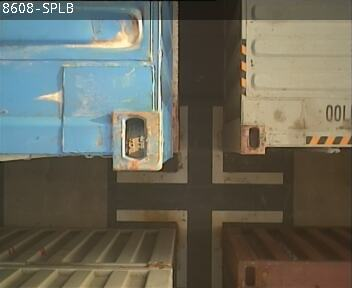groundmarker_1: (115, 210, 283, 288), (116, 106, 284, 183)
